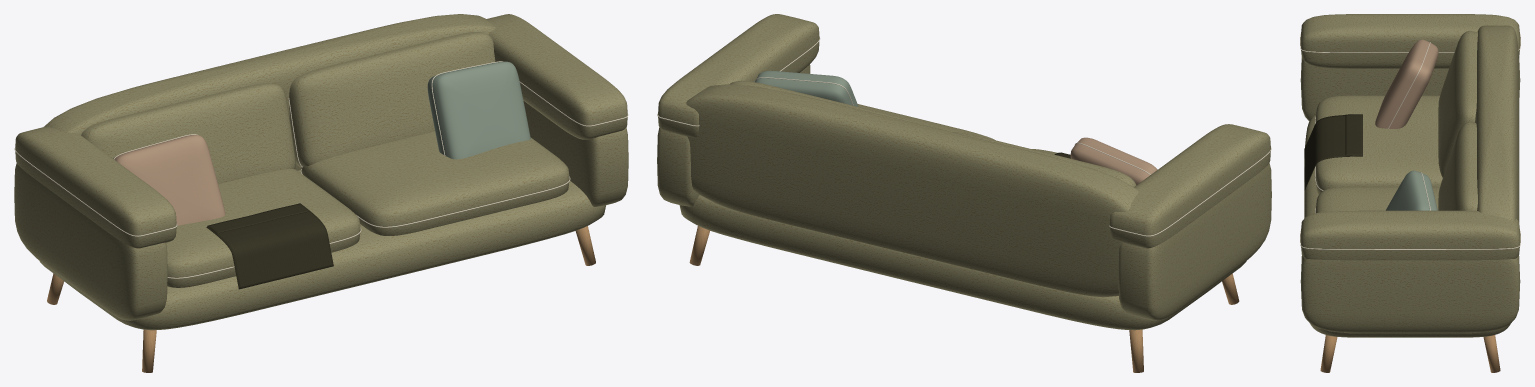
File: country.sofa.gltf
3 views of the same model, side by side, from view 1: azimuth 30°, elevation 25°; view 2: azimuth 150°, elevation 25°; view 3: azimuth 270°, elevation 25° (orthographic). The views are drawn at different scales.
Visible parts, largest first — view 1: country.sofa.leg; view 2: country.sofa.leg; view 3: country.sofa.leg.
Part boxes in pixels (bbox=[...]): country.sofa.leg: bbox=[14, 14, 628, 372]; country.sofa.leg: bbox=[657, 14, 1271, 372]; country.sofa.leg: bbox=[1300, 14, 1520, 372].
Bounding box in the file's own units: 2.22 × 0.8031 × 0.9464.
6 materials, 4 textured.
